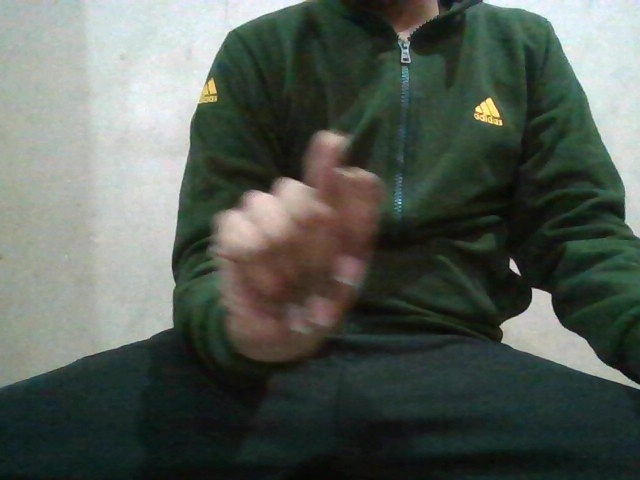T: (209, 128, 391, 346)
